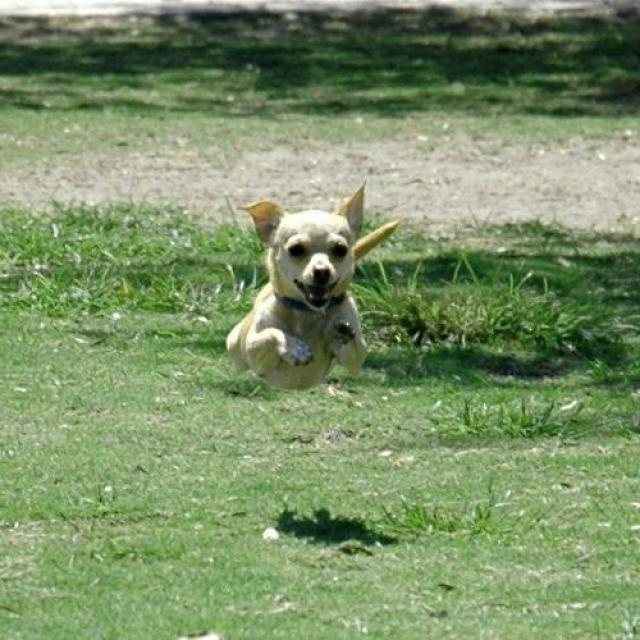chihuahua: (223, 179, 400, 393)
